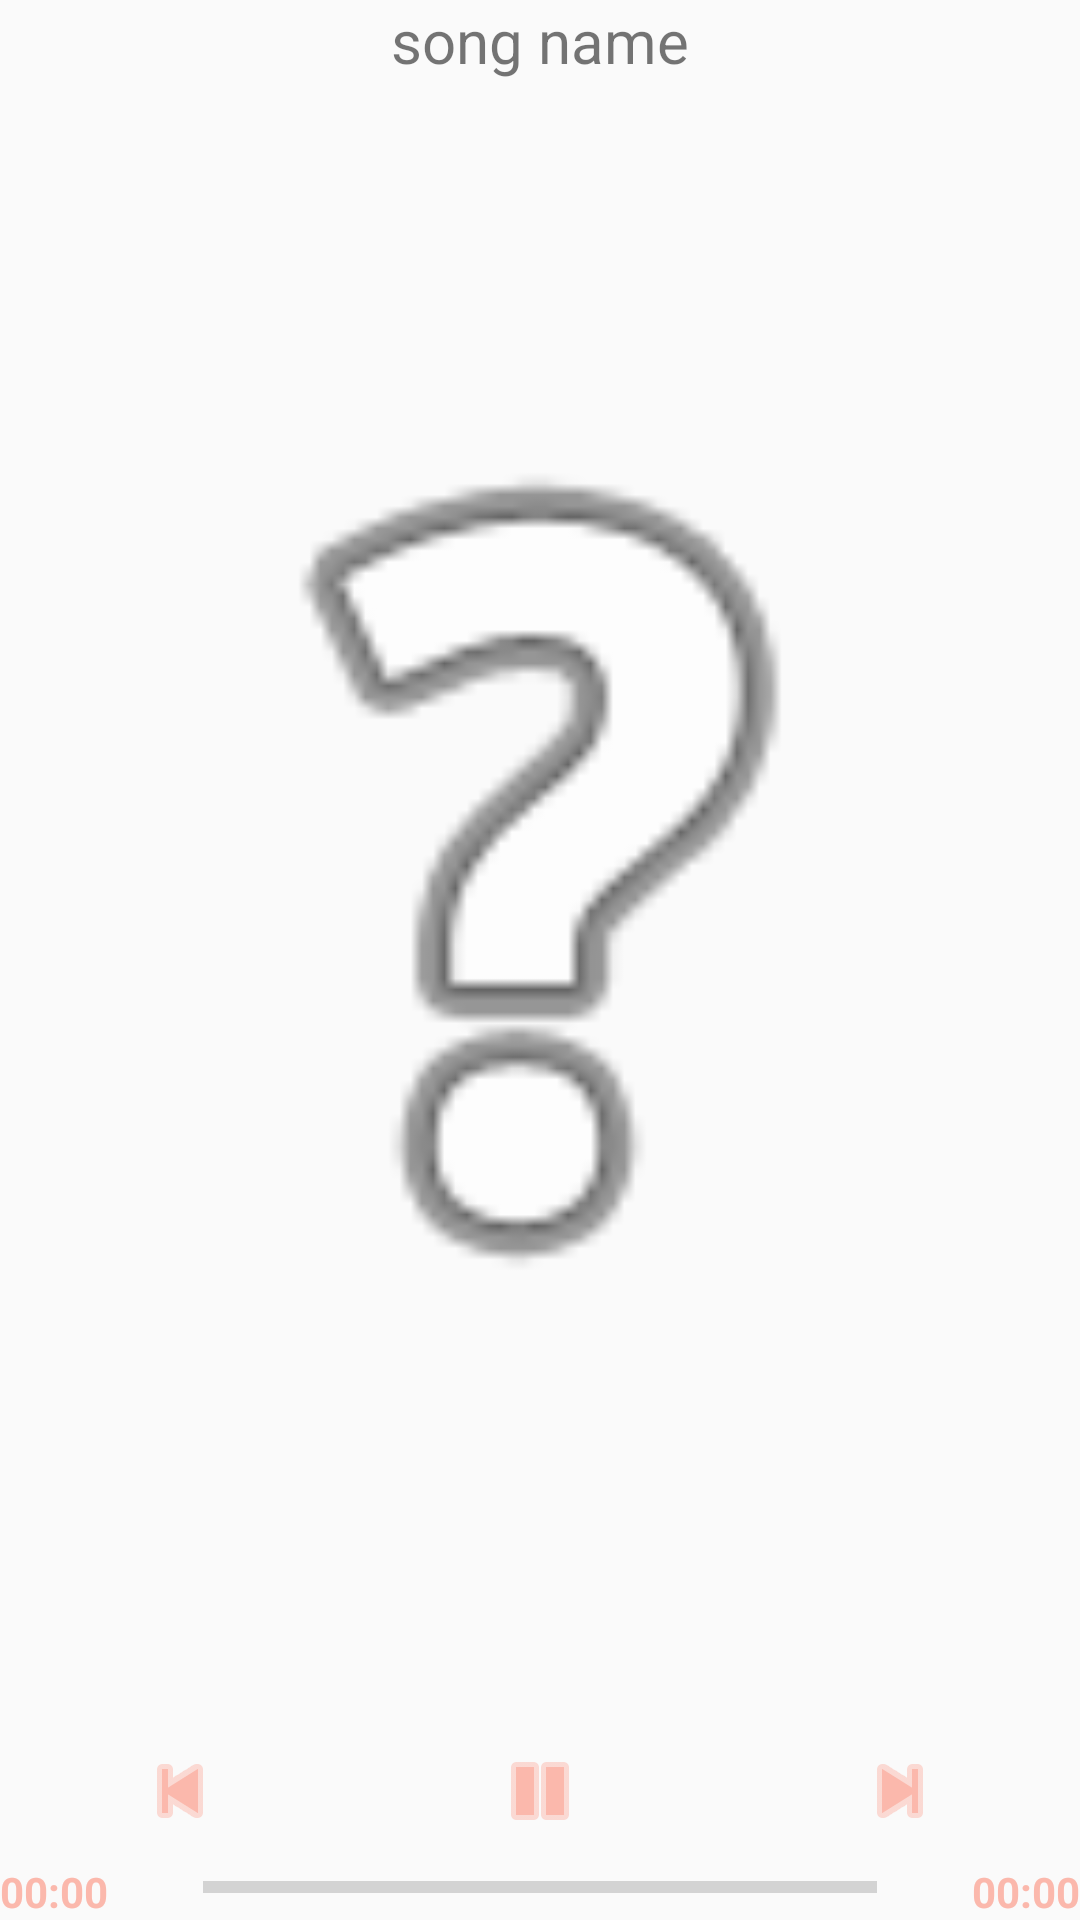

Named icons in this screenshot (1080x1920) and their bounding boxes, detection(x1, y1, x2, y2):
next: detection(877, 1764, 923, 1818)
pause: detection(511, 1762, 569, 1820)
previous: detection(157, 1764, 203, 1818)
